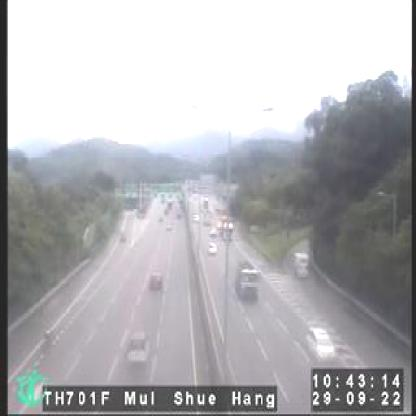Car: (306, 326, 336, 362), (126, 328, 148, 366), (150, 270, 165, 295), (207, 239, 217, 255)
Truck: (230, 255, 265, 303), (291, 248, 312, 281)
